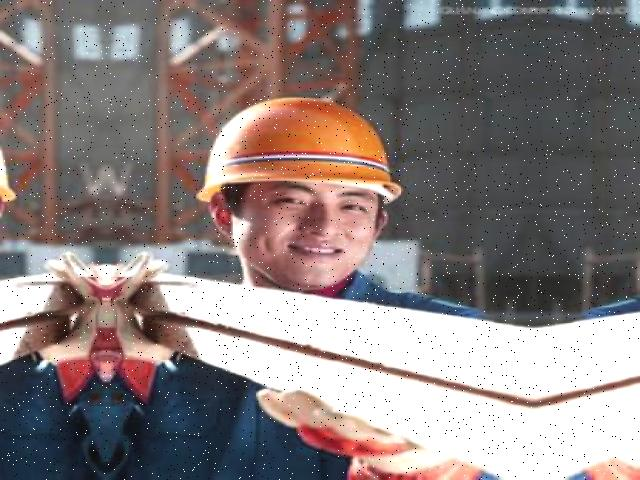Helmet: (185, 89, 409, 220)
